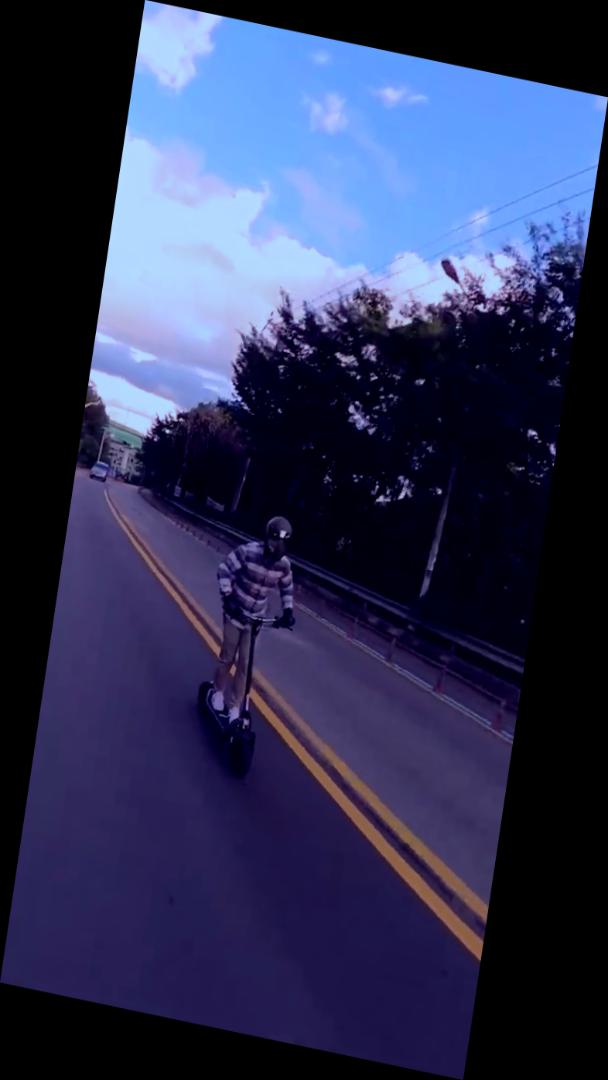helmet: (185, 499, 314, 787)
